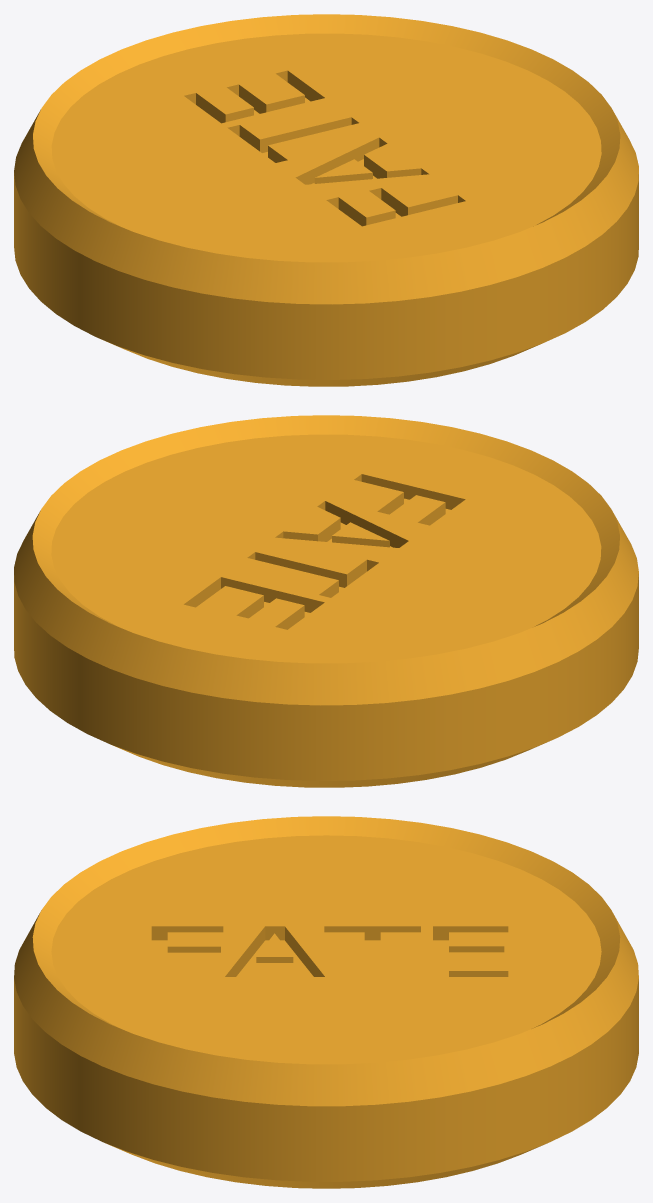
File: Piece V1 Hunyadi.glb
3 views of the same model, one above another, from view 1: azimuth 30°, elevation 25°; view 2: azimuth 150°, elevation 25°; view 3: azimuth 270°, elevation 25° (orthographic).
Visible parts, largest first — view 1: Solid1; view 2: Solid1; view 3: Solid1.
Part boxes in pixels (x1,y1,x2,y2): Solid1: (14,14,638,386); Solid1: (14,415,638,787); Solid1: (14,816,638,1188).
Size of the model in its own units: 0.0317 by 0.00741 by 0.0317.
